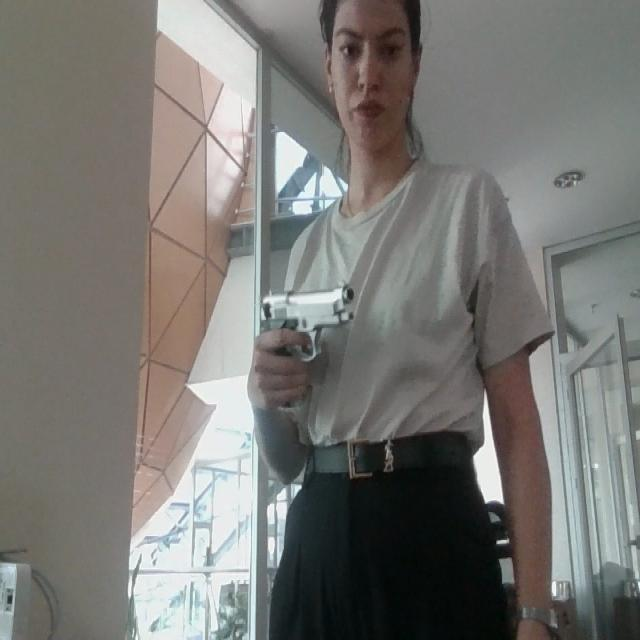handgun: (254, 254, 403, 452)
